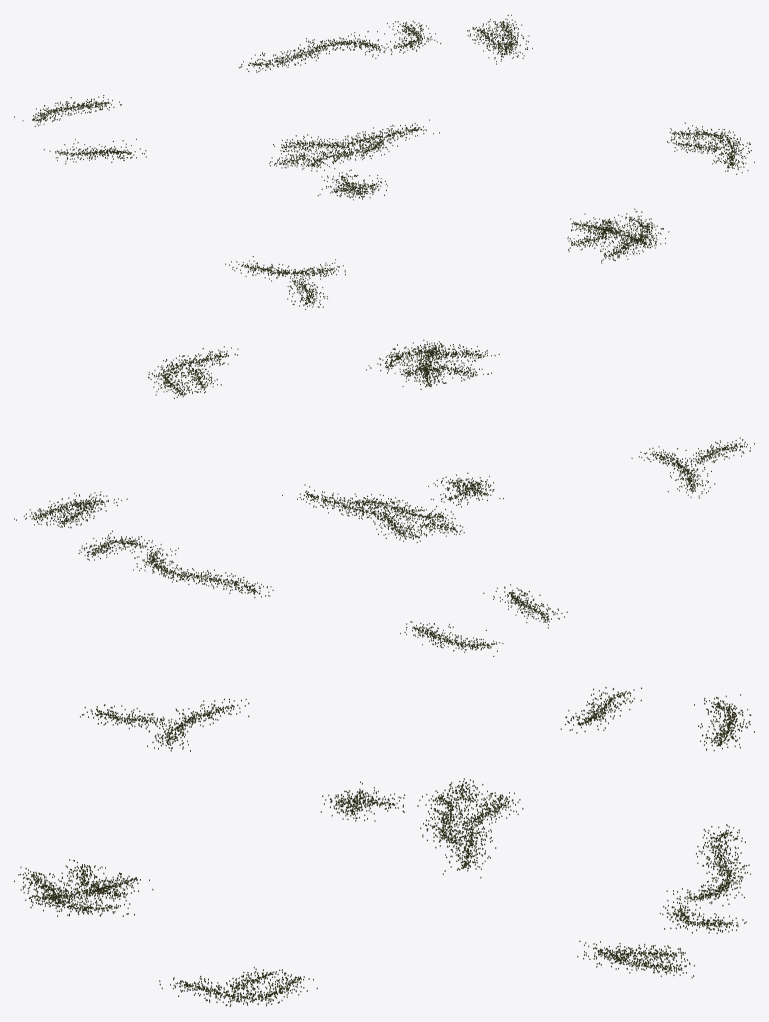
The model's file is trees2d.glb.
3 views of the same model, one above another, from view 1: azimuth 30°, elevation 25°; view 2: azimuth 150°, elevation 25°; view 3: azimuth 270°, elevation 25° (orthographic). The views are drawn at different scales.
Size of the model in its own units: 2920 by 46.52 by 2867.
1 material, 1 textured.
